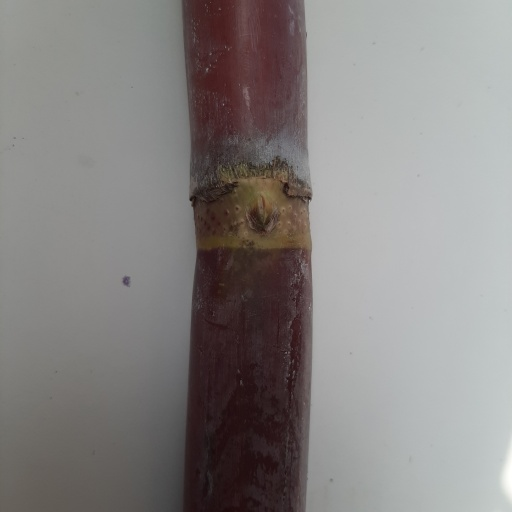Bud: (245, 194, 282, 235)
